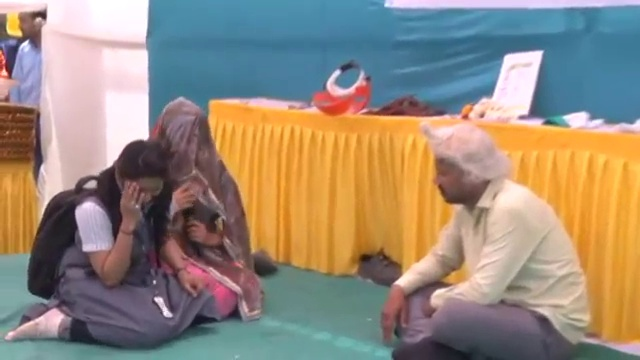helmet: (0, 71, 21, 105)
helmet_off: (423, 125, 501, 210), (102, 134, 175, 206), (152, 106, 210, 171), (15, 1, 46, 47)
person: (370, 122, 588, 356), (3, 139, 200, 335), (137, 112, 257, 307), (4, 0, 48, 113)
